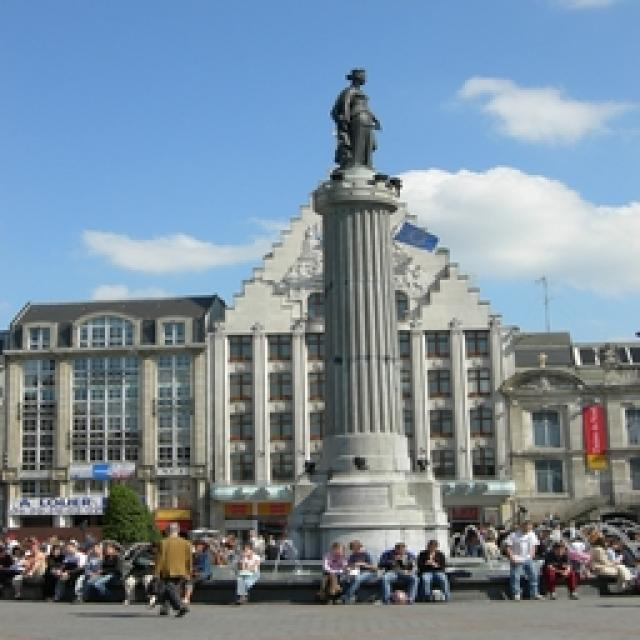Abbey: (1, 3, 639, 640), (281, 61, 456, 569)
